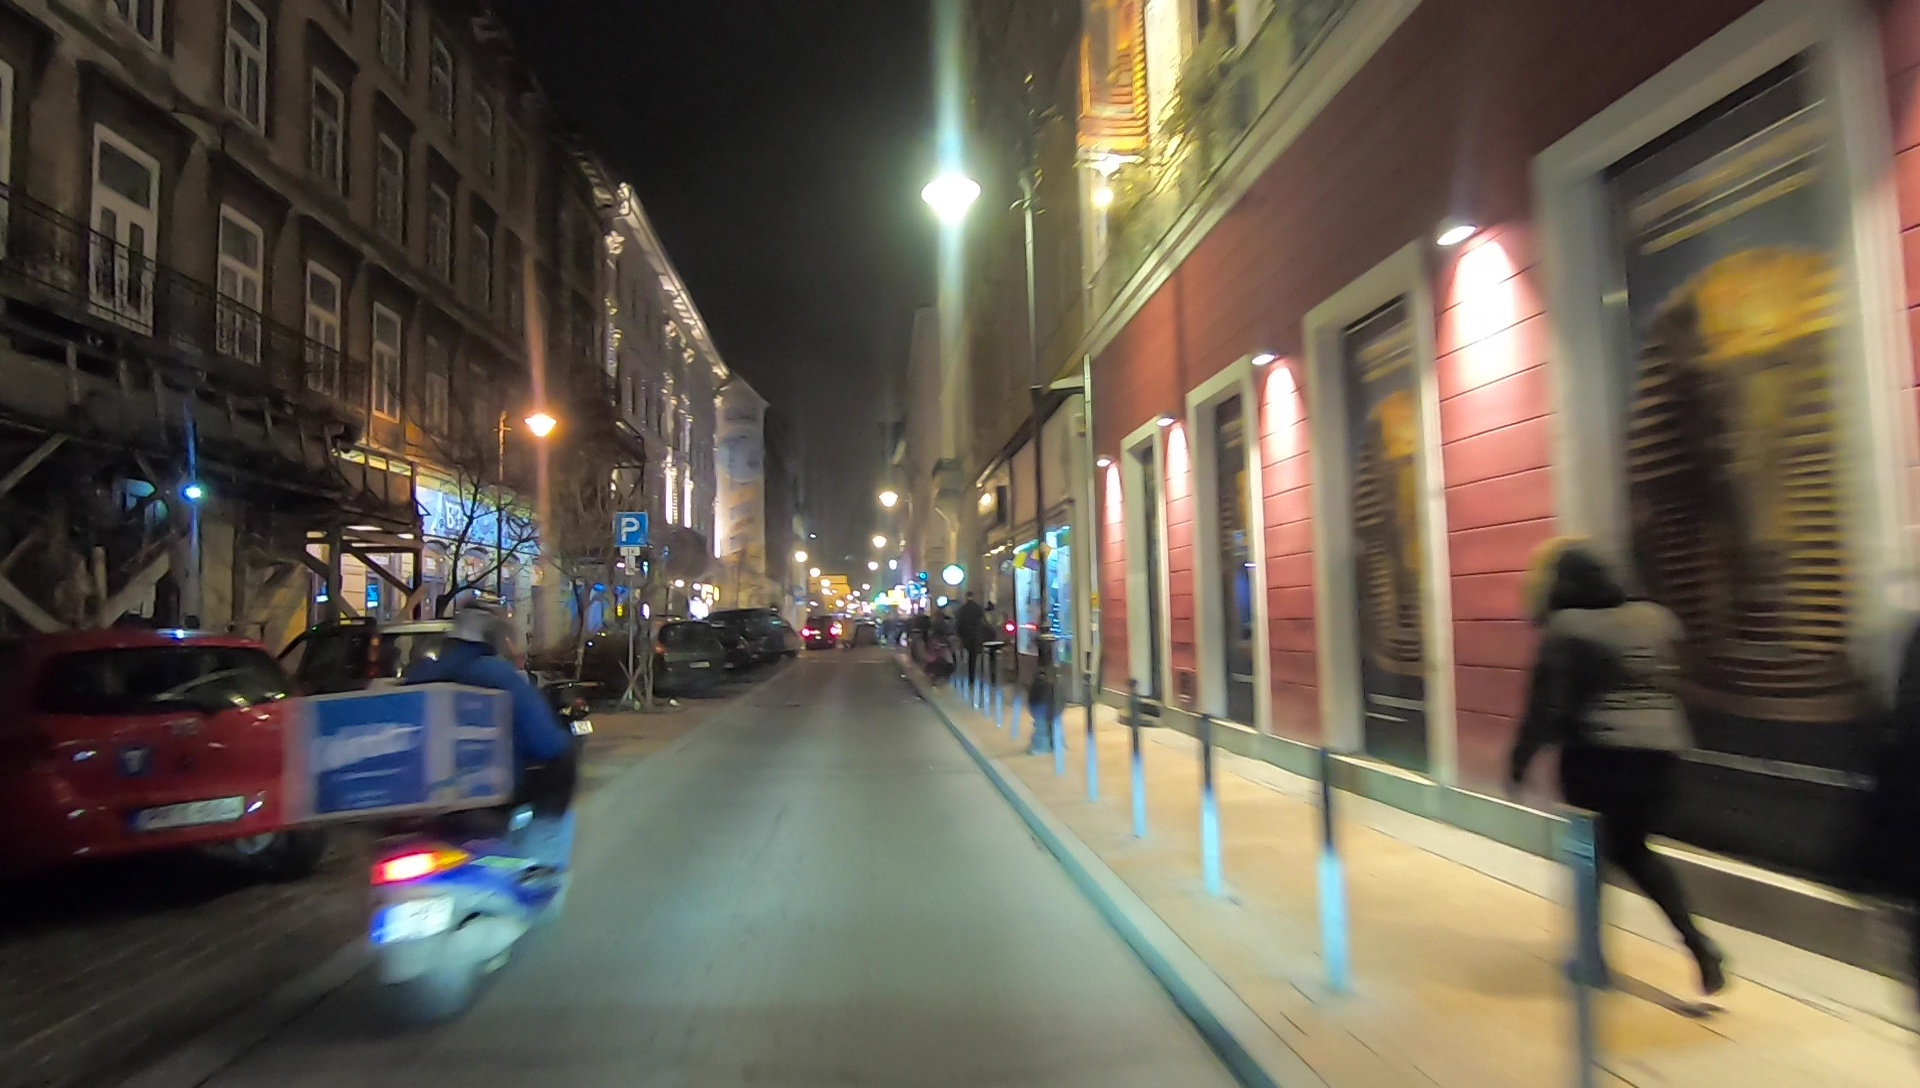person: (1515, 545, 1732, 989), (954, 593, 984, 674)
